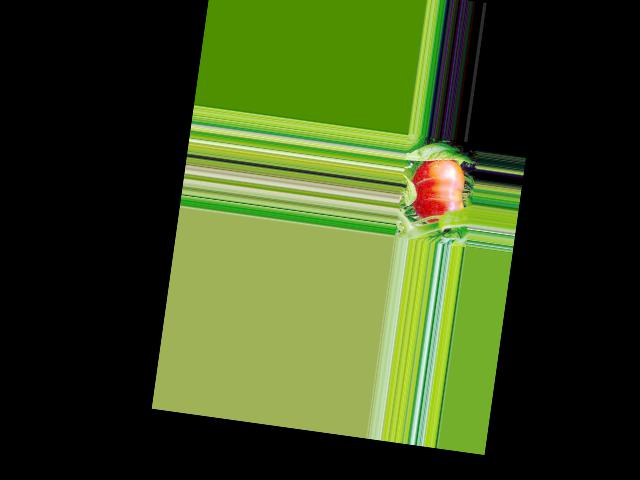tomato: (406, 154, 470, 228)
